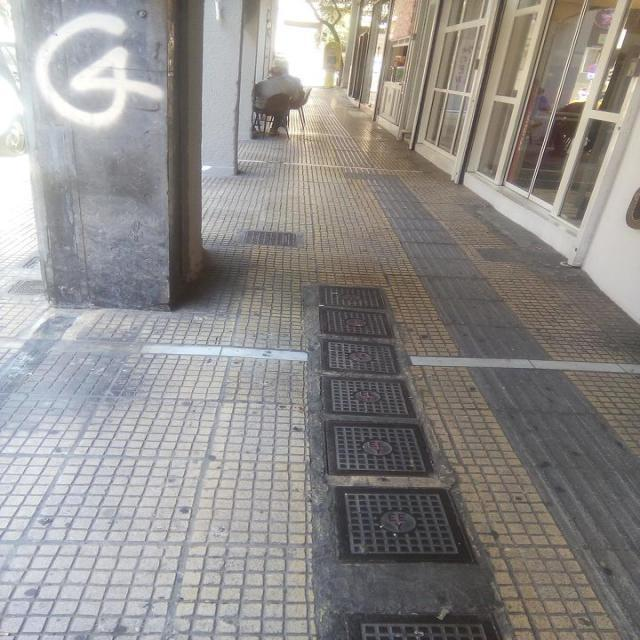nonspitting: (34, 12, 164, 128)
